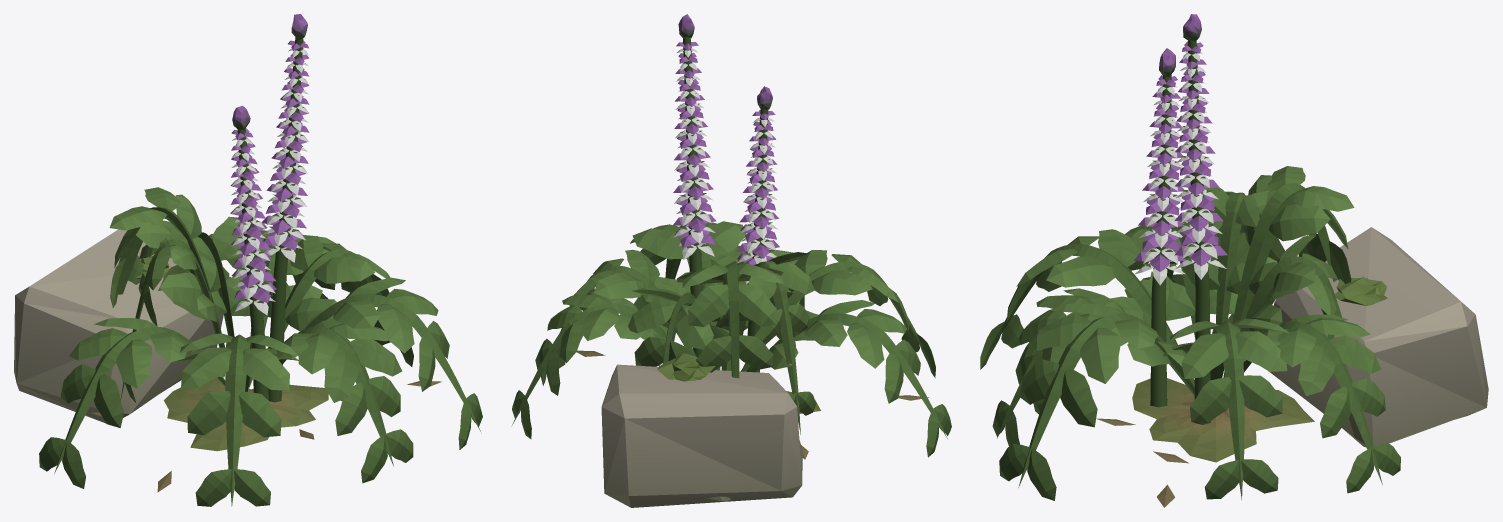
File: acanthus_scatter.glb
3 views of the same model, side by side, from view 1: azimuth 30°, elevation 25°; view 2: azimuth 150°, elevation 25°; view 3: azimuth 270°, elevation 25° (orthographic). The views are drawn at different scales.
Parts seen in each view (by area): view 1: acanthus_scatter; view 2: acanthus_scatter; view 3: acanthus_scatter.
Boxes of the visible parts, x1=… form: acanthus_scatter: x1=14, y1=14, x2=482, y2=506; acanthus_scatter: x1=511, y1=14, x2=951, y2=507; acanthus_scatter: x1=980, y1=14, x2=1488, y2=507.
Bounding box in the file's own units: 1.11 × 1.11 × 1.16.
